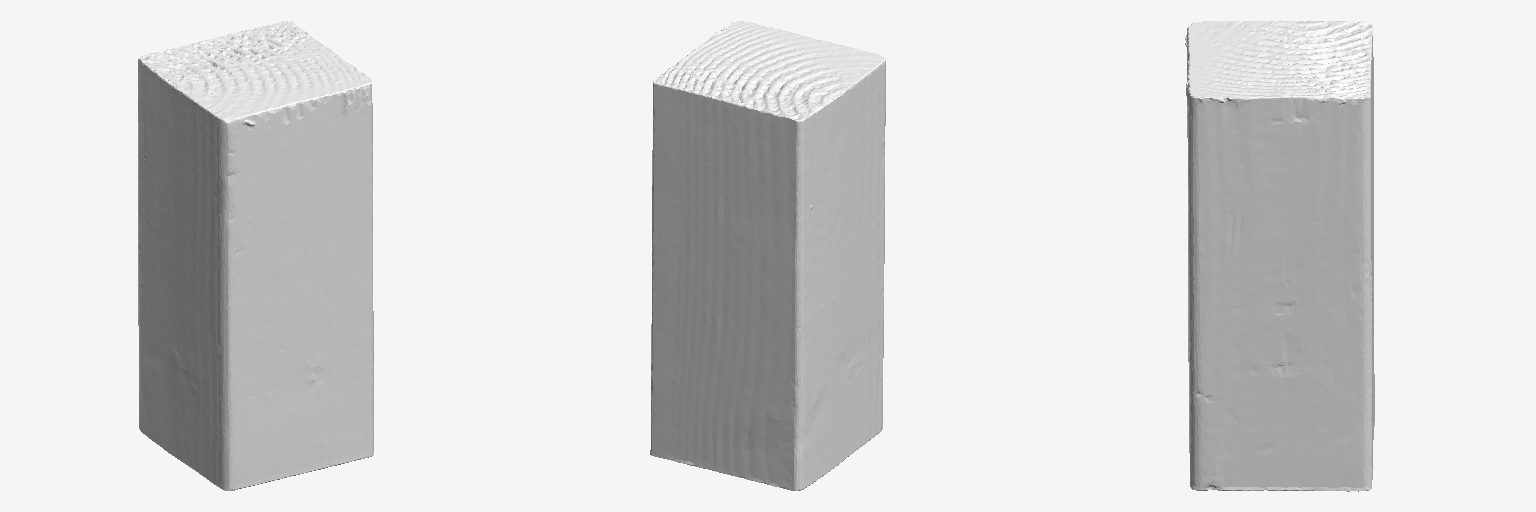
The robot description file, URDF, robot "mug":
<robot name="mug">
	<link name="base_link">
		<visual>
			<origin xyz="0.018858606464151616 -0.01657296231165061 -0.026898852026976835" rpy="0.0 0.0 0.0" />
			<geometry>
				<mesh filename="025_mug/google_16k/textured.obj" scale="1 1 1" />
			</geometry>
			<material name="texture">
				<color rgba="1.0 1.0 1.0 1.0" />
			</material>
		</visual>
		<collision>
			<origin xyz="0.018858606464151616 -0.01657296231165061 -0.026898852026976835" rpy="0.0 0.0 0.0" />
			<geometry>
				<mesh filename="025_mug/google_16k/textured_vhacd.obj" scale="1 1 1" />
			</geometry>
		</collision>
		<inertial>
			<mass value="0.118" />
			<inertia ixx="1e-3" ixy="0.0" ixz="0.0" iyy="1e-3" iyz="0.0" izz="1e-3" />
		</inertial>
	</link>
</robot>

--- Facts derived from the render (not from the file) ---
3 views of the same robot in one strip: view 1: azimuth 30°, elevation 25°; view 2: azimuth 150°, elevation 25°; view 3: azimuth 270°, elevation 25° (orthographic).
Robot: mug — 1 links, 0 joints (none); root link base_link; default pose: all joints at 0.
Visible links, largest first — view 1: base_link; view 2: base_link; view 3: base_link.
Link boxes in pixels (bbox=[...]): base_link: bbox=[138, 21, 373, 490]; base_link: bbox=[650, 21, 885, 490]; base_link: bbox=[1185, 20, 1374, 491].
Size in the robot's own frame: 0.0906 by 0.0899 by 0.206 metres.
Meshes: 1 distinct files referenced, 1 mesh visuals loaded (1 OBJ).